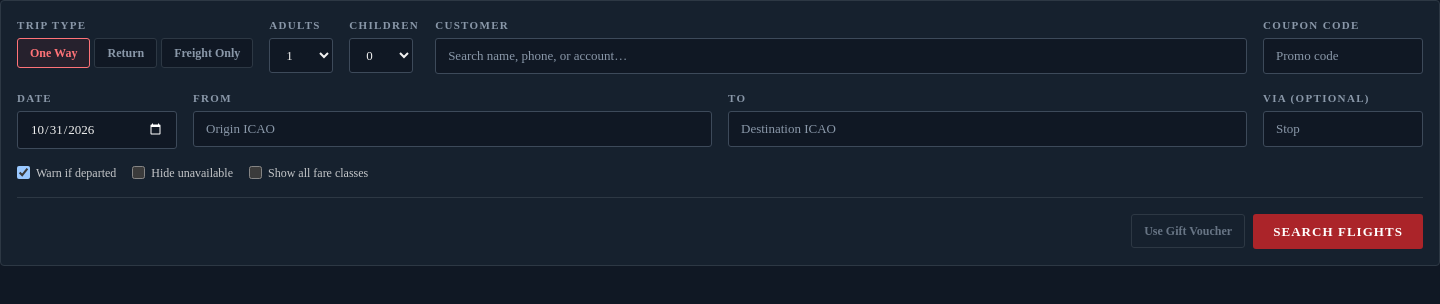
it: NewBookingSearchForm — search behaviour › rejects a route whose destination equals its origin
Type "PANC" into the field with placeholder "Origin ICAO" at coordinates (452, 129), box [193,111,712,147]
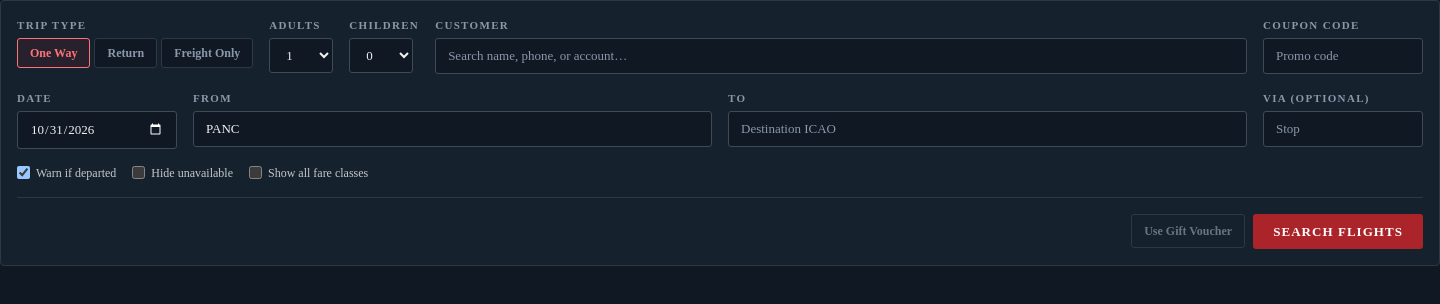
Type "panc" into the field with placeholder "Destination ICAO" at coordinates (988, 129), box [728,111,1247,147]
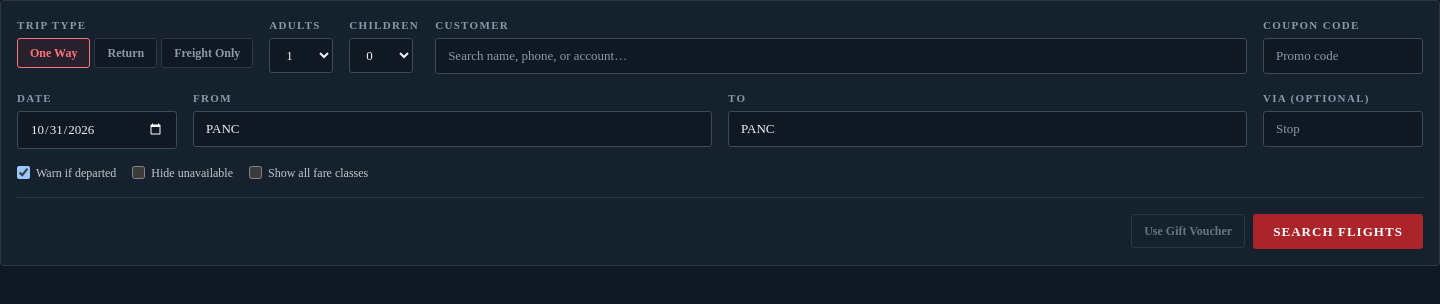
Click the button "Search Flights" at coordinates (1338, 231), box [1253,214,1423,249]
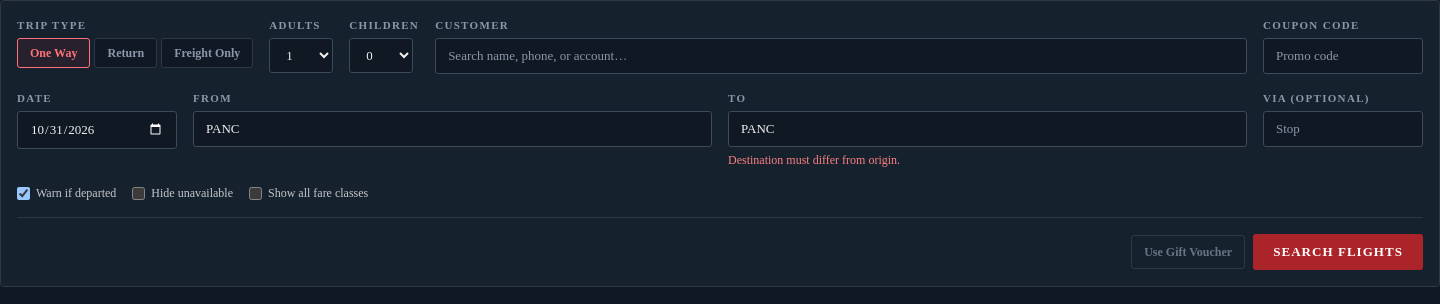
Expected: the text "Destination must differ from origin." is shown, [728,154,900,168]
